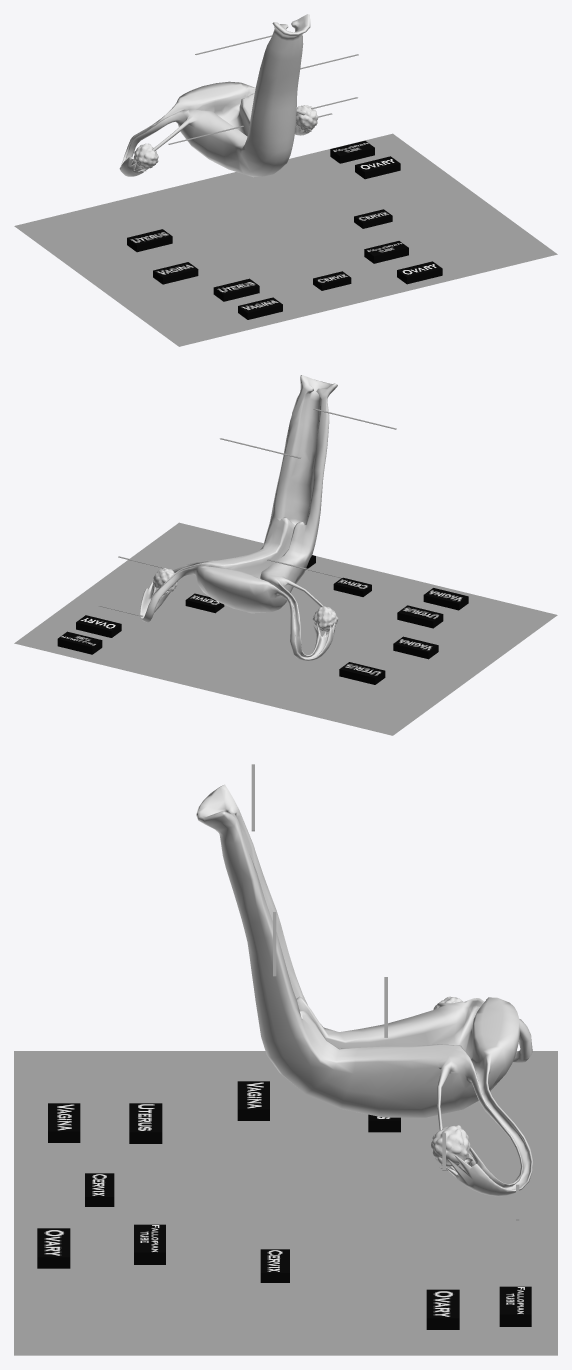
Rendered from femail_parts.fbx.
3 renders of one model, top to bottom at view 1: azimuth 30°, elevation 25°; view 2: azimuth 150°, elevation 25°; view 3: azimuth 270°, elevation 25°, orthographic. The views are drawn at different scales.
Parts seen in each view (by area): view 1: base, REPRODUCTIONEPRODUCTIONINANIMALS:Uterus_XSection:Ovary001, stigma (×2), stigma1 (×2), style (×2), fliament (×2), petals2 (×2), lines; view 2: base, REPRODUCTIONEPRODUCTIONINANIMALS:Uterus_XSection:Ovary001, stigma (×2), fliament (×2), petals2 (×2), style, stigma1, lines; view 3: base, REPRODUCTIONEPRODUCTIONINANIMALS:Uterus_XSection:Ovary001, stigma1 (×2), style (×2), fliament (×2), petals2 (×2), stigma, lines.
Boxes of the visible parts, x1,y1,x2,y2 form: base: [14, 133, 557, 346]; REPRODUCTIONEPRODUCTIONINANIMALS:Uterus_XSection:Ovary001: [119, 14, 318, 177]; stigma (×2): [127, 229, 259, 301]; stigma1 (×2): [355, 156, 442, 284]; style (×2): [330, 140, 408, 263]; fliament (×2): [153, 262, 282, 319]; petals2 (×2): [313, 209, 392, 290]; lines: [168, 35, 358, 144]; base: [14, 522, 557, 735]; REPRODUCTIONEPRODUCTIONINANIMALS:Uterus_XSection:Ovary001: [140, 375, 338, 660]; stigma (×2): [339, 605, 443, 684]; fliament (×2): [393, 588, 468, 659]; petals2 (×2): [185, 577, 371, 613]; style: [57, 631, 102, 654]; stigma1: [76, 615, 121, 637]; lines: [99, 408, 396, 616]; base: [14, 1051, 557, 1355]; REPRODUCTIONEPRODUCTIONINANIMALS:Uterus_XSection:Ovary001: [196, 784, 533, 1196]; stigma1 (×2): [37, 1228, 459, 1329]; style (×2): [134, 1224, 531, 1326]; fliament (×2): [48, 1081, 269, 1142]; petals2 (×2): [85, 1173, 289, 1282]; stigma: [129, 1103, 162, 1143]; lines: [251, 764, 519, 1220].
Bounding box in the file's own units: 259 × 157 × 196.
5 materials, 1 textured.
